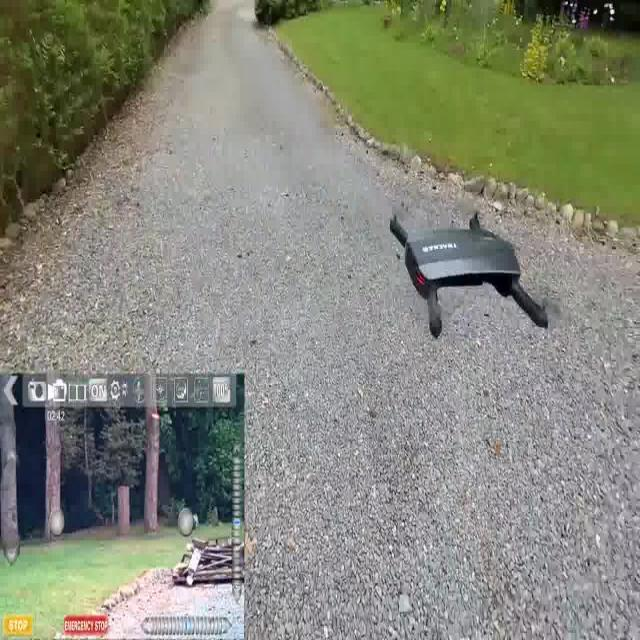drone: (383, 203, 568, 343)
